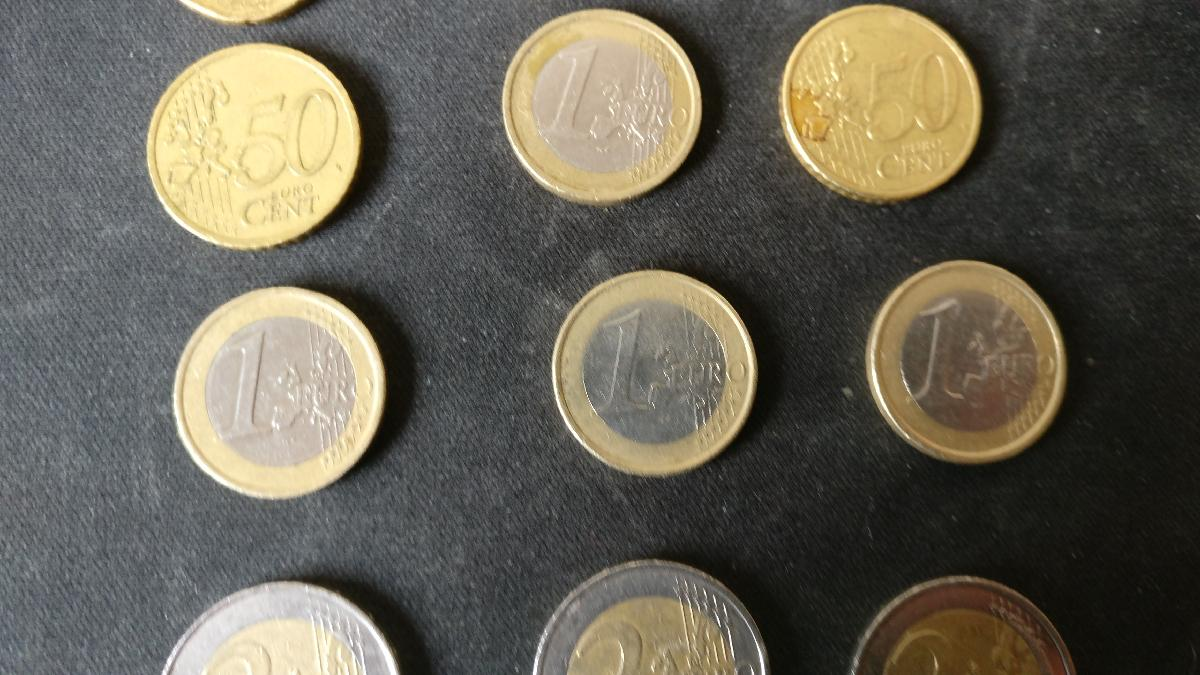Fifty Cent: (147, 42, 368, 253), (781, 4, 983, 205)
One Euro: (174, 285, 390, 500), (553, 269, 760, 477), (865, 258, 1071, 465), (501, 9, 704, 203)
Two Euro: (533, 557, 776, 675), (157, 582, 402, 675), (848, 576, 1077, 673)
